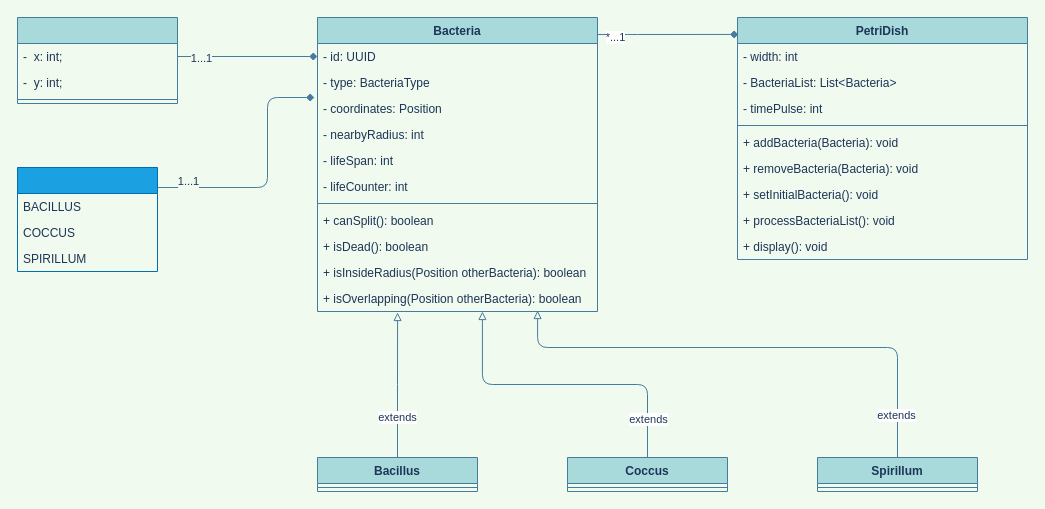
Some shapes in this 1045 by 509 pixel diagram are drawn without their labels. Each missing label, with the box of its shape:
BacteriaType: (16, 166, 158, 272)
Position: (16, 16, 178, 104)
